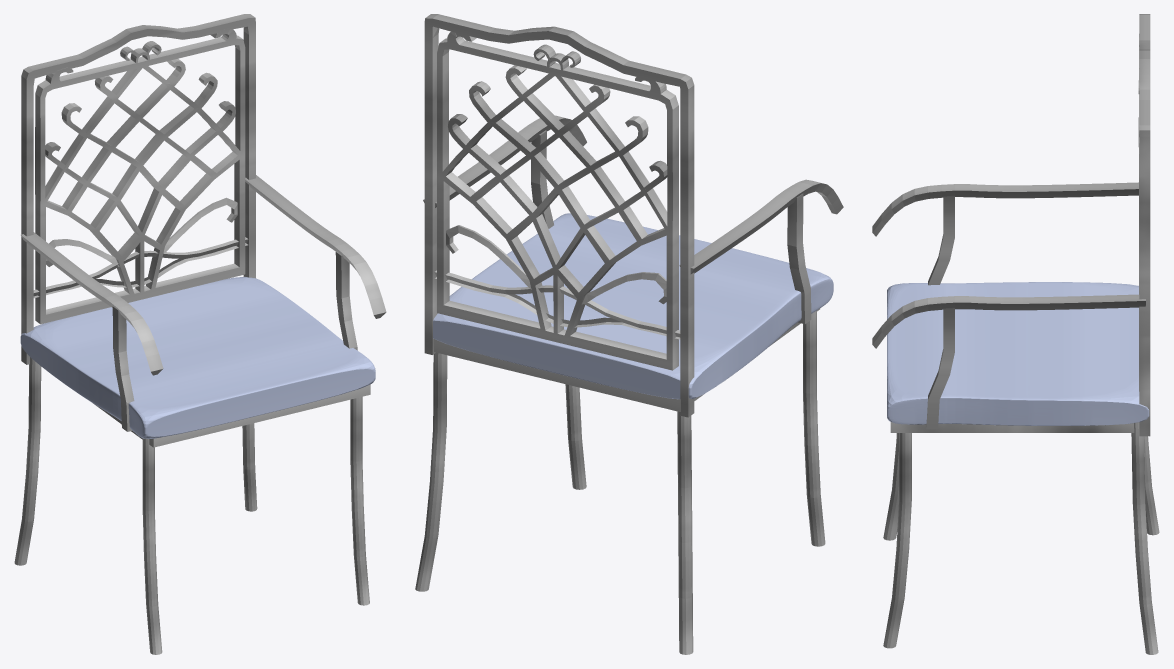
The model's file is sweethome3d-contributions-lattice-chair-199.glb.
3 renders of one model, left to right at view 1: azimuth 30°, elevation 25°; view 2: azimuth 150°, elevation 25°; view 3: azimuth 270°, elevation 25°, orthographic. The views are drawn at different scales.
Parts seen in each view (by area): view 1: PolyMesh_2, PolyMesh_1, outersection, PolyMesh_3_1, Tube_2, Tube_2_1, PolyMesh_3, PolyMesh_3_2, PolyMesh_1_1, PolyMesh_3_4, PolyMesh_3_5, Tube_3 (+3 smaller); view 2: PolyMesh_1, PolyMesh_2, outersection, PolyMesh_3_2, PolyMesh_3_3, PolyMesh_3_1, Tube_2_1, PolyMesh_1_1, PolyMesh_3_4, Tube_2, Tube_3, PolyMesh_3 (+4 smaller); view 3: PolyMesh_2, outersection, Tube_2, Tube_2_1, PolyMesh_3_3, PolyMesh_3, PolyMesh_1_1, PolyMesh_3_5, PolyMesh_3_4, PolyMesh_3_1, PolyMesh_3_2.
Part boxes in pixels (x1,y1,x2,y2): PolyMesh_2: (20, 276, 375, 438); PolyMesh_1: (35, 29, 245, 324); outersection: (21, 14, 255, 364); PolyMesh_3_1: (142, 438, 162, 654); Tube_2: (245, 175, 386, 318); Tube_2_1: (21, 232, 163, 375); PolyMesh_3: (350, 396, 369, 605); PolyMesh_3_2: (14, 357, 41, 565); PolyMesh_1_1: (93, 384, 370, 447); PolyMesh_3_4: (112, 306, 134, 431); PolyMesh_3_5: (335, 251, 357, 350); Tube_3: (33, 237, 248, 296); PolyMesh_1: (437, 31, 678, 370); PolyMesh_2: (433, 213, 833, 399); outersection: (424, 14, 694, 417); PolyMesh_3_2: (677, 411, 693, 654); PolyMesh_3_3: (415, 352, 447, 591); PolyMesh_3_1: (803, 310, 825, 546); Tube_2_1: (679, 179, 843, 274); PolyMesh_1_1: (434, 308, 820, 411); PolyMesh_3_4: (787, 193, 811, 324); Tube_2: (423, 115, 586, 207); Tube_3: (434, 270, 680, 337); PolyMesh_3: (565, 384, 586, 489); PolyMesh_2: (887, 282, 1149, 425); outersection: (1139, 14, 1150, 436); Tube_2: (872, 294, 1145, 348); Tube_2_1: (872, 182, 1138, 236); PolyMesh_3_3: (1131, 422, 1158, 654); PolyMesh_3: (883, 433, 911, 648); PolyMesh_1_1: (890, 422, 1134, 432); PolyMesh_3_5: (926, 308, 954, 429); PolyMesh_3_4: (928, 196, 954, 285); PolyMesh_3_1: (883, 433, 898, 540); PolyMesh_3_2: (1144, 436, 1159, 535).
Size of the model in its own units: 2 by 4.05 by 1.96.
2 materials, 2 textured.
